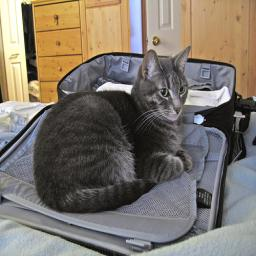catnose: (172, 107, 182, 115)
